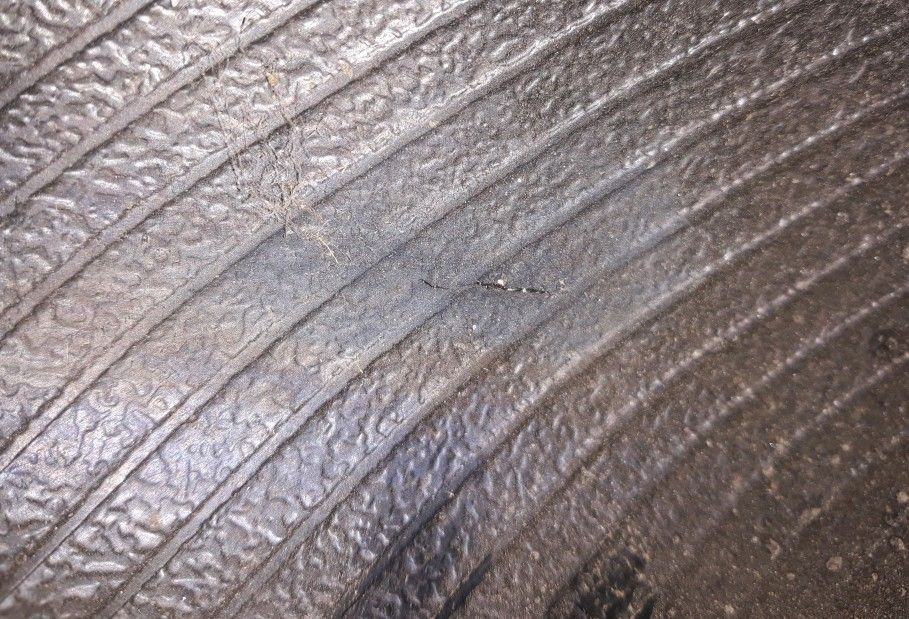cut: (402, 268, 570, 312)
